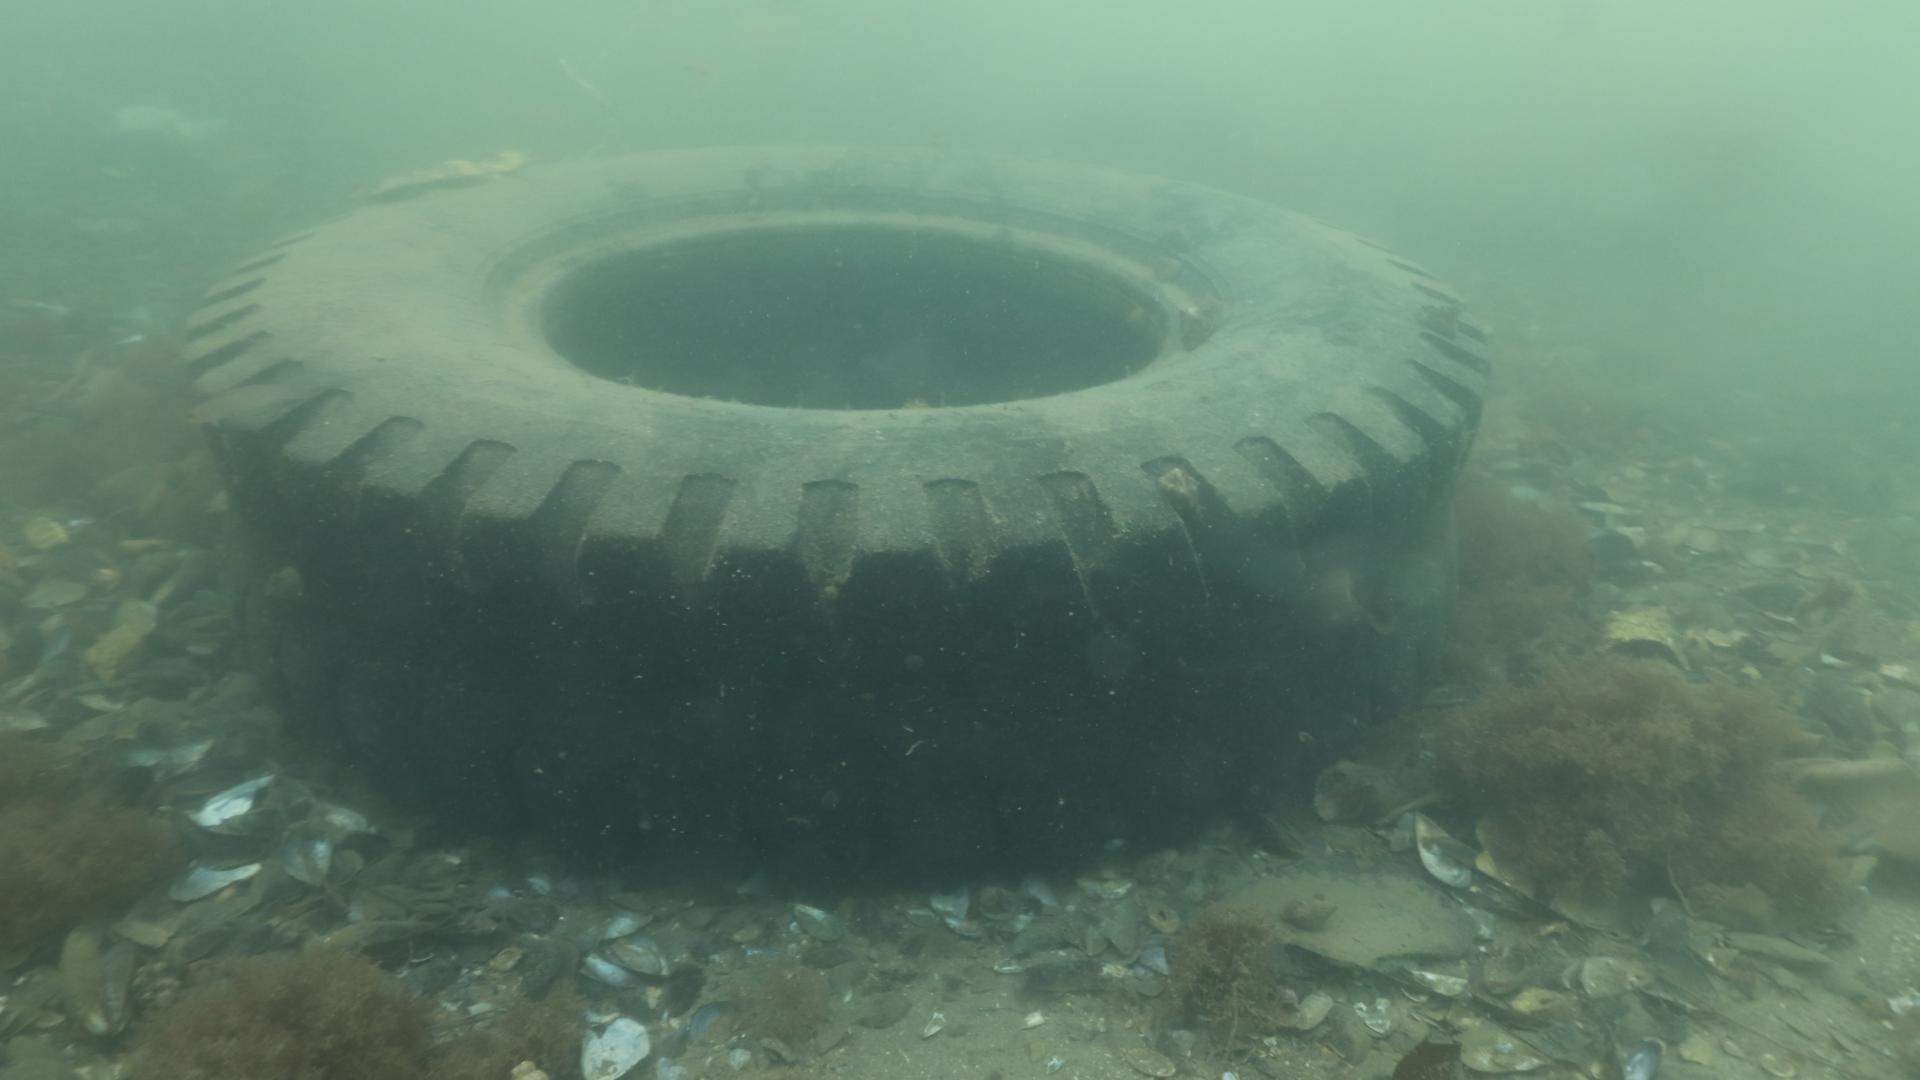tire: (185, 138, 1494, 880)
